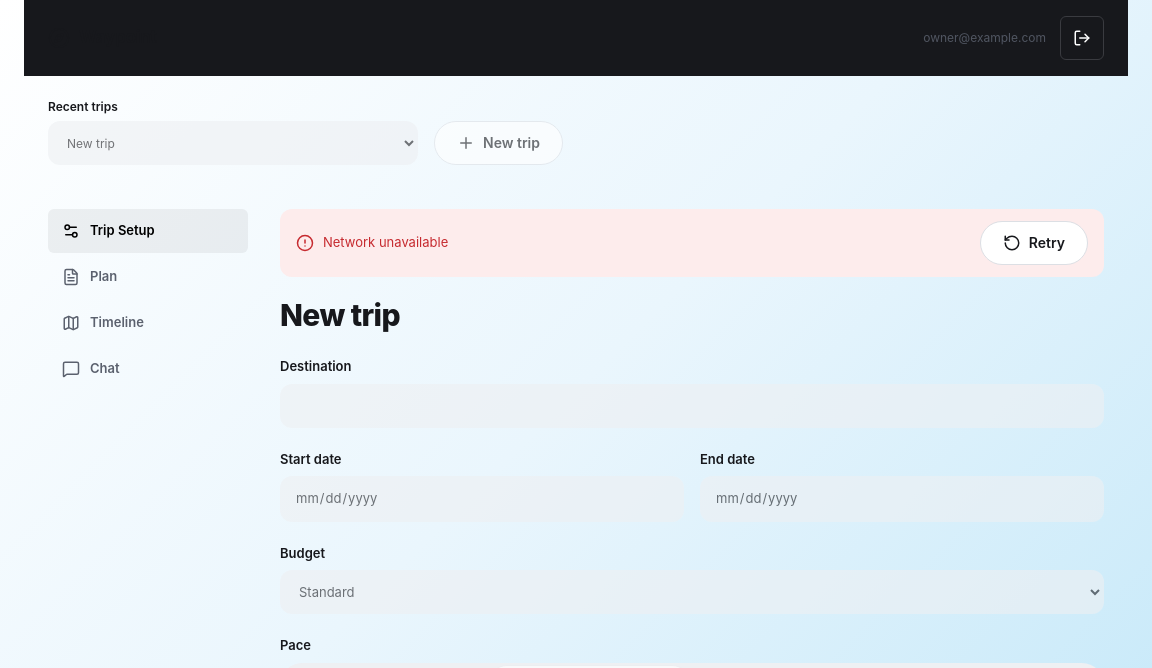
trip workspace › offers retry after list failure
Expected: the message shows "Network unavailable", 323,234 -> 448,250
Click the button "Retry" at (1034, 243), box 980,221 -> 1088,265
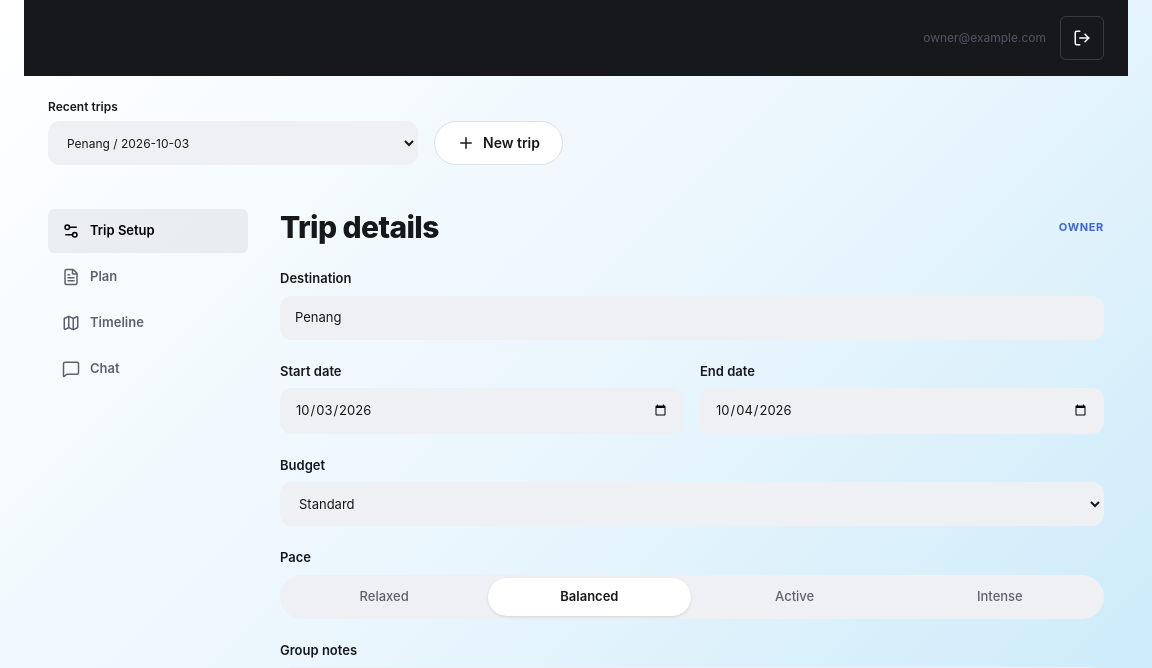
Now the field showing "Penang" is shown, box 280,296 -> 1104,340
